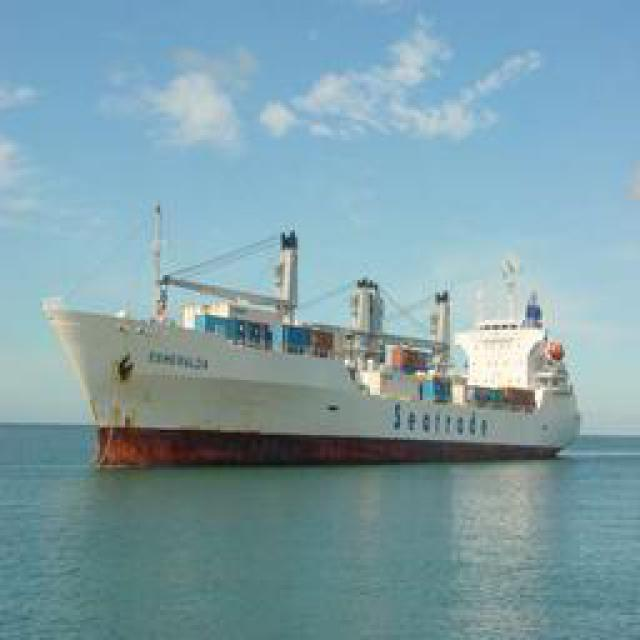Ship: (42, 201, 580, 469)
